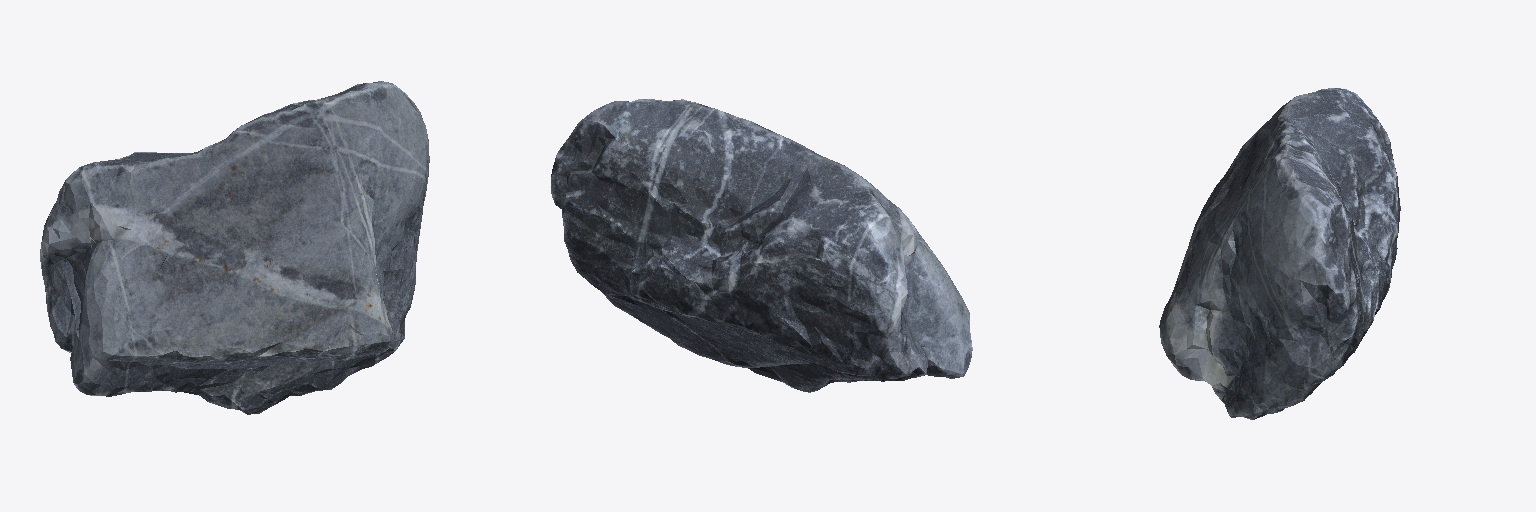
The picture shows the model from 3 angles: view 1: azimuth 30°, elevation 25°; view 2: azimuth 150°, elevation 25°; view 3: azimuth 270°, elevation 25°; orthographic projection.
Visible parts, largest first — view 1: defaultobject_defaultobject; view 2: defaultobject_defaultobject; view 3: defaultobject_defaultobject.
Boxes of the visible parts, <box> form: defaultobject_defaultobject: <box>40,81,429,414</box>; defaultobject_defaultobject: <box>551,99,972,392</box>; defaultobject_defaultobject: <box>1159,88,1400,419</box>.
Bounding box in the file's own units: 2.01 × 1.39 × 1.11.
Materials: 1 (1 with a texture image).